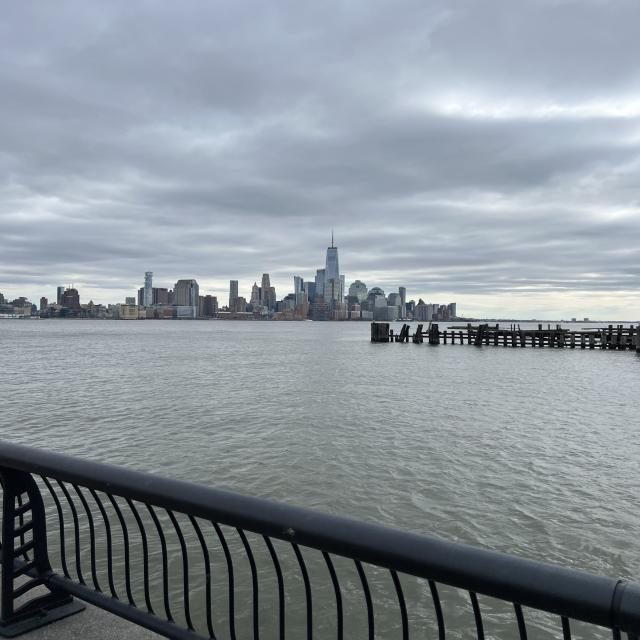WTC: (324, 230, 340, 280)
